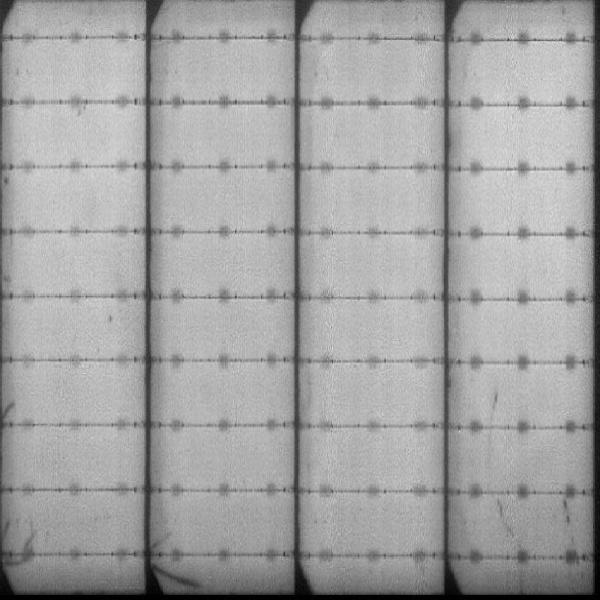scratch: (155, 558, 204, 586), (488, 497, 517, 543), (3, 523, 38, 557), (558, 496, 576, 535)
